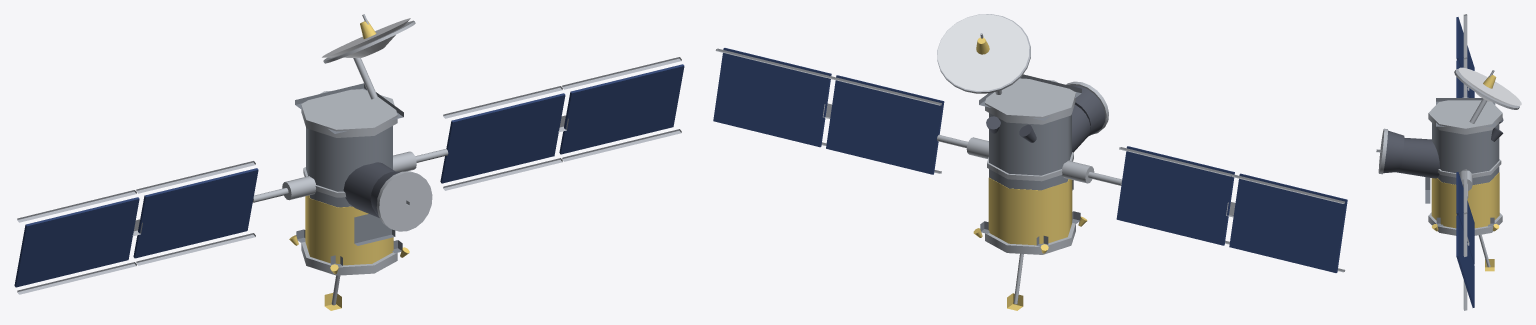
File: nexspace-satellite.glb
The picture shows the model from 3 angles, left to right: view 1: azimuth 30°, elevation 25°; view 2: azimuth 150°, elevation 25°; view 3: azimuth 270°, elevation 25°; orthographic projection. The views are drawn at different scales.
Visible parts, largest first — view 1: Satellite_Node; view 2: Satellite_Node; view 3: Satellite_Node.
Part boxes in pixels (x1,y1,x2,y2): Satellite_Node: (14, 14, 684, 310); Satellite_Node: (713, 14, 1347, 310); Satellite_Node: (1376, 14, 1521, 310).
Bounding box in the file's own units: 2.12 × 0.8672 × 0.5387.
